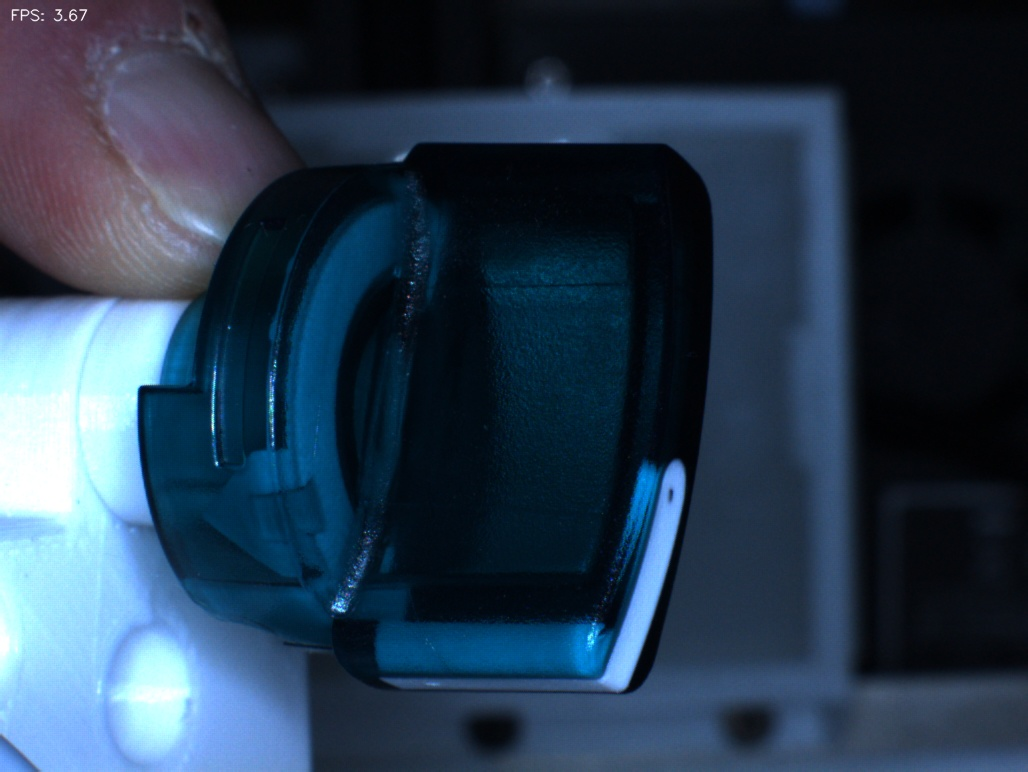PointNoir: (634, 445, 710, 539)
